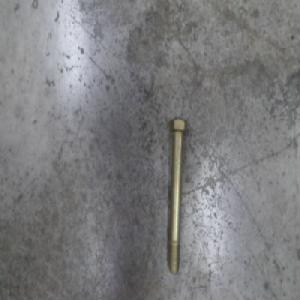Bolt: (167, 116, 188, 276)
